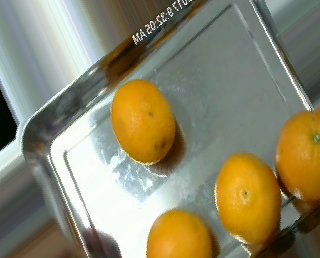Orange: (214, 151, 284, 246), (109, 78, 176, 164), (274, 108, 320, 201)
